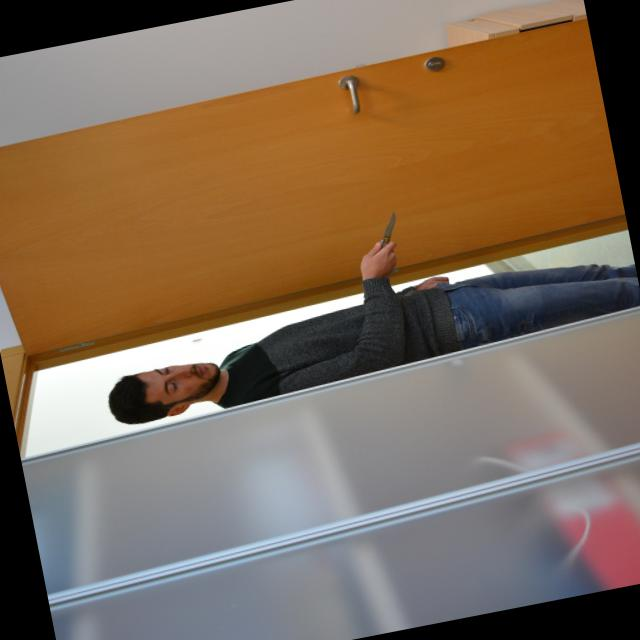knife: (364, 205, 406, 258)
